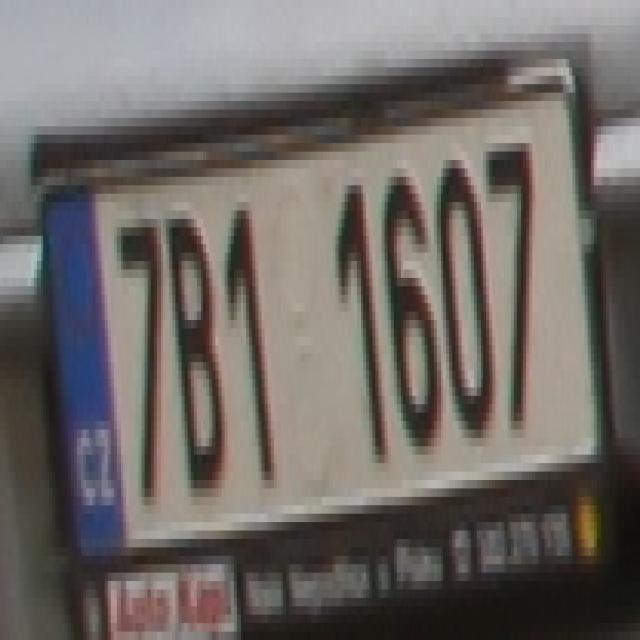0: (434, 152, 495, 421)
1: (335, 168, 394, 455), (228, 202, 277, 480)
6: (382, 160, 443, 429)
7: (486, 135, 539, 421), (117, 211, 166, 505)
B: (163, 210, 225, 497)
